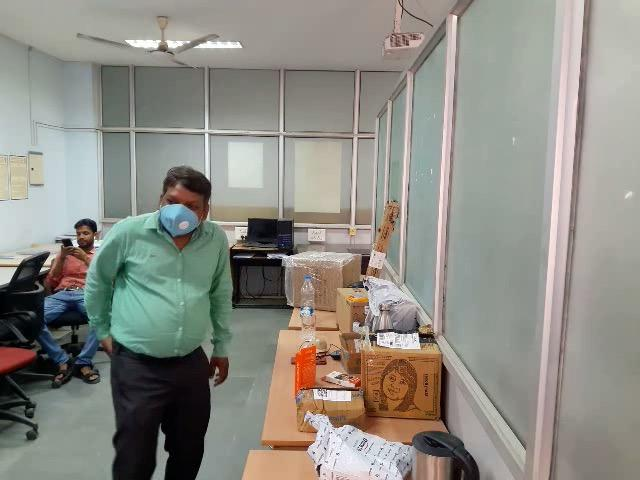shoplifting: (56, 310, 191, 411)
